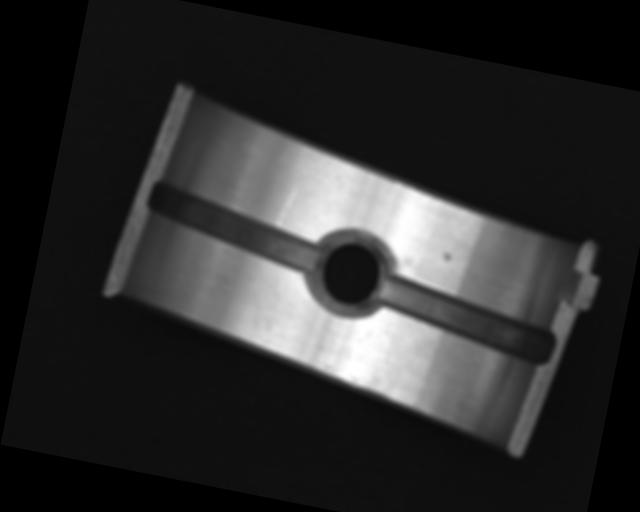bruise: (440, 252, 452, 263)
gap: (141, 179, 328, 275), (371, 275, 561, 366)
hole: (302, 221, 396, 323)
nick: (276, 182, 299, 230)
